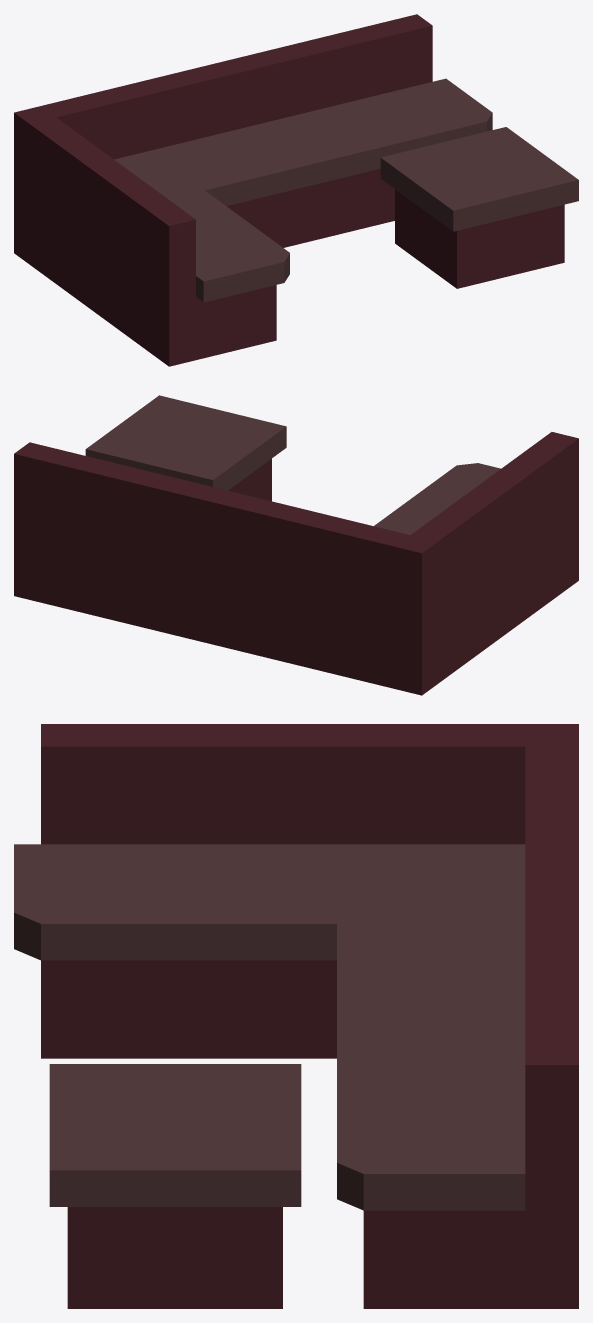
File: Corner Couch.fbx
3 views of the same model, one above another, from view 1: azimuth 30°, elevation 25°; view 2: azimuth 150°, elevation 25°; view 3: azimuth 270°, elevation 25° (orthographic). The views are drawn at different scales.
Visible parts, largest first — view 1: Corner Couch, Corner Couch Foot Rest; view 2: Corner Couch, Corner Couch Foot Rest; view 3: Corner Couch, Corner Couch Foot Rest.
Boxes of the visible parts, bbox=[...] form: Corner Couch: bbox=[14, 14, 492, 366]; Corner Couch Foot Rest: bbox=[380, 127, 578, 288]; Corner Couch: bbox=[14, 432, 578, 695]; Corner Couch Foot Rest: bbox=[85, 395, 286, 501]; Corner Couch: bbox=[14, 724, 578, 1308]; Corner Couch Foot Rest: bbox=[49, 1064, 301, 1308].
Bounding box in the file's own units: 3100 × 1000 × 2100.
